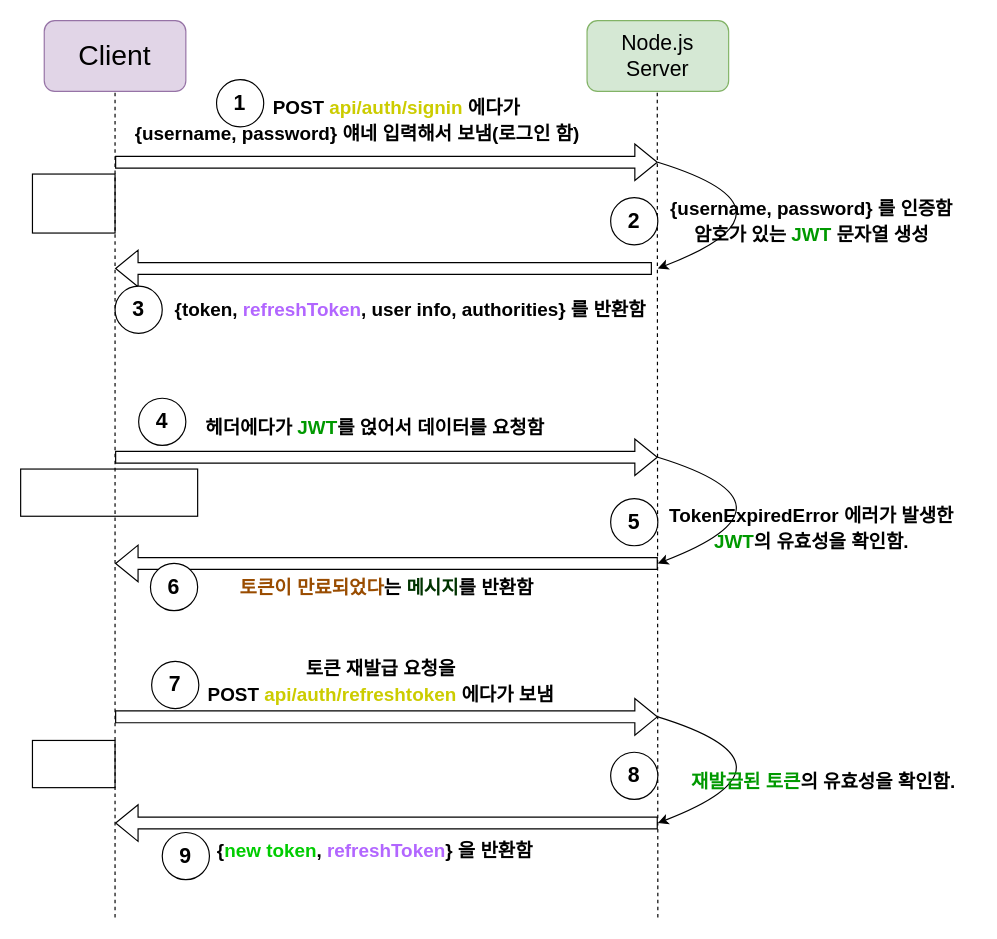
The diagram is 997 pixels wide and 939 high, and some of its shapes have lost their labels. The centre of each missing label's shape, as x and y in pixels:
만료된 토큰과 함께 자원에 접근하기: pixel 108 492
유저 로그인: pixel 73 203
토큰 재발급: pixel 73 763
